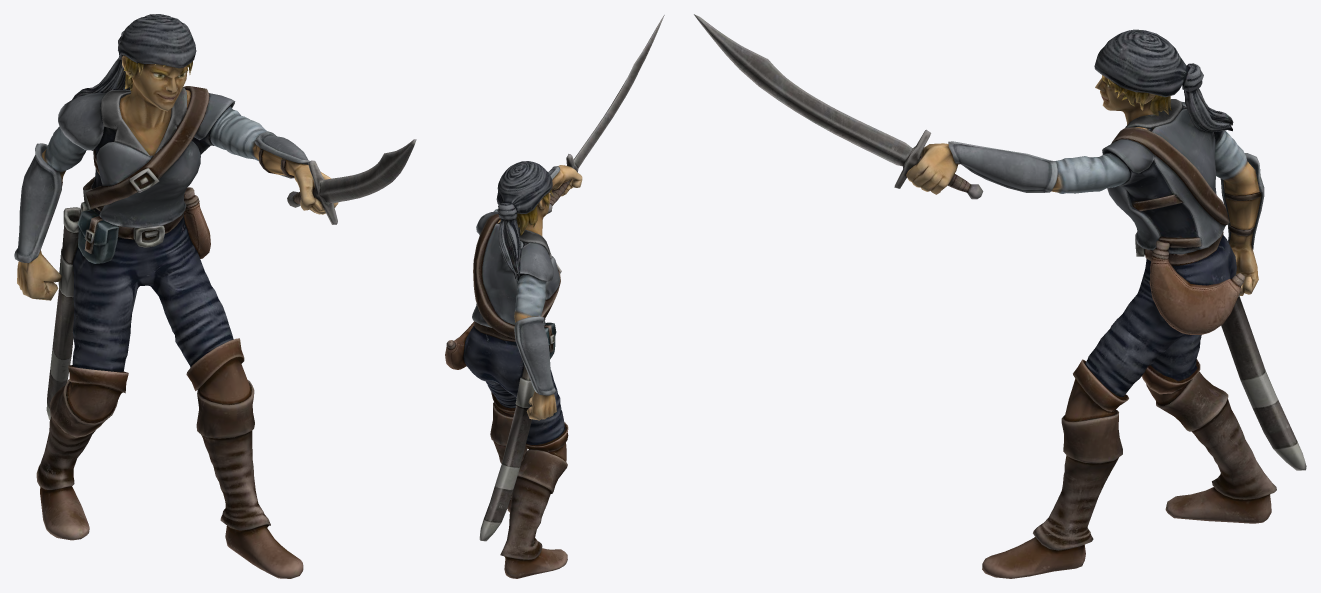
Rendered from MZ4250 - Bandit Female 02.glb.
The picture shows the model from 3 angles, left to right: view 1: azimuth 30°, elevation 25°; view 2: azimuth 150°, elevation 25°; view 3: azimuth 270°, elevation 25°; orthographic projection. The views are drawn at different scales.
Parts seen in each view (by area): view 1: BanditFemale; view 2: BanditFemale; view 3: BanditFemale.
Part boxes in pixels (x1=…): BanditFemale: x1=14, y1=14, x2=416, y2=578; BanditFemale: x1=445, y1=15, x2=664, y2=578; BanditFemale: x1=694, y1=14, x2=1306, y2=578.
Size of the model in its own units: 0.3528 by 1.08 by 1.1.
Materials: 1 (1 with a texture image).
